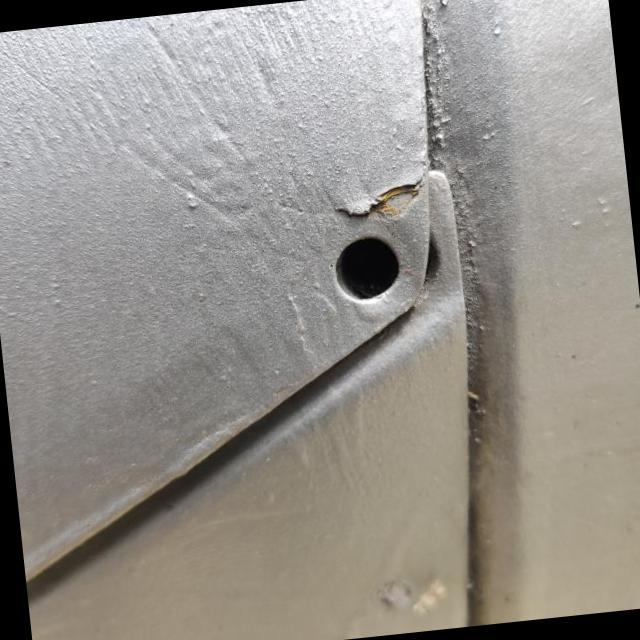Fastener Damage: (260, 173, 470, 376)
